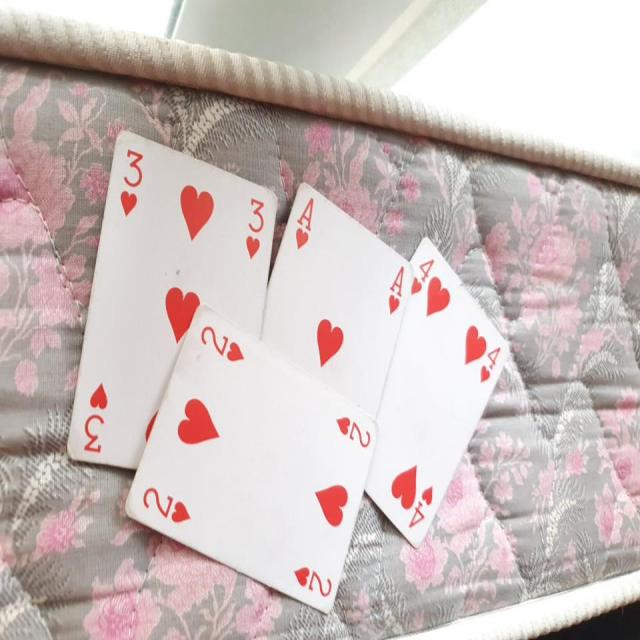2 Hearts: (120, 306, 380, 604)
3 Hearts: (62, 124, 276, 473)
4 Hearts: (355, 232, 518, 558)
A Hearts: (264, 172, 413, 481)
